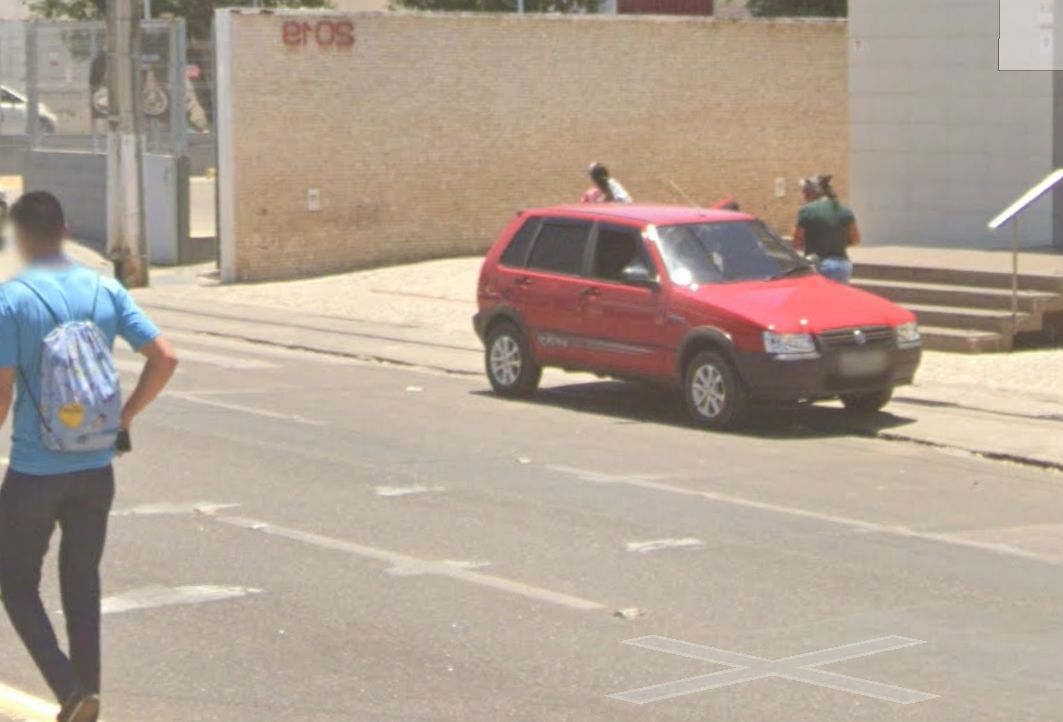car: (469, 191, 932, 469)
